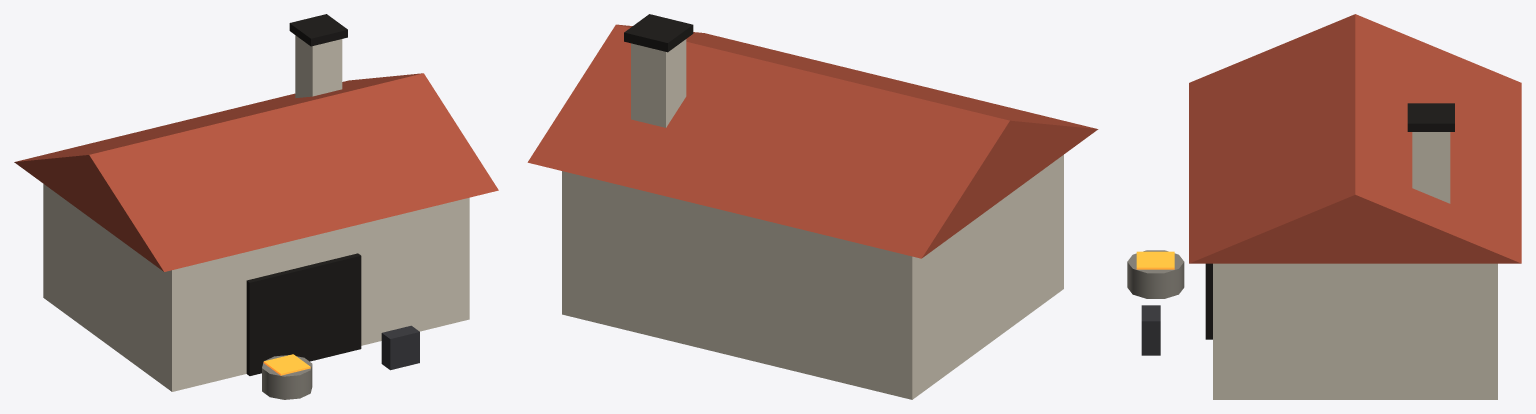
File: smithy.glb
The picture shows the model from 3 angles, left to right: view 1: azimuth 30°, elevation 25°; view 2: azimuth 150°, elevation 25°; view 3: azimuth 270°, elevation 25°; orthographic projection. The views are drawn at different scales.
Parts seen in each view (by area): view 1: Smithy; view 2: Smithy; view 3: Smithy.
Part boxes in pixels (<box>): Smithy: <box>14,14,498,399</box>; Smithy: <box>527,14,1098,399</box>; Smithy: <box>1127,14,1521,399</box>.
Bounding box in the file's own units: 9 × 6 × 8.3.
